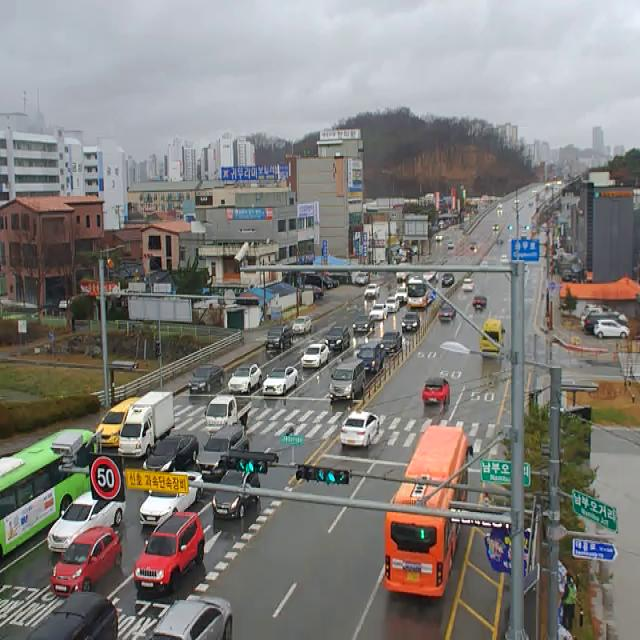Bus: (385, 427, 473, 598), (0, 429, 97, 558), (408, 271, 438, 308)
Car: (134, 512, 205, 591), (50, 526, 122, 597), (48, 492, 126, 552), (26, 593, 117, 640), (152, 594, 232, 640), (140, 472, 203, 524), (196, 422, 250, 479), (212, 470, 260, 519), (96, 398, 142, 447), (205, 394, 252, 438), (142, 435, 199, 471), (330, 359, 365, 405), (340, 412, 379, 450), (581, 305, 629, 328), (188, 364, 224, 393), (228, 363, 262, 393), (263, 367, 298, 395), (480, 318, 505, 357), (585, 310, 627, 332), (422, 378, 450, 407), (265, 325, 293, 352), (594, 319, 630, 339), (325, 325, 350, 352), (301, 344, 329, 368), (380, 331, 402, 353), (292, 316, 312, 335), (353, 316, 374, 334), (402, 315, 420, 334), (369, 304, 388, 321), (438, 307, 456, 322), (364, 283, 380, 299), (396, 264, 410, 281), (472, 295, 487, 309), (386, 298, 399, 314), (395, 288, 407, 304), (355, 272, 368, 286), (442, 274, 455, 286), (462, 279, 474, 292), (470, 241, 478, 250), (436, 234, 444, 242), (492, 224, 499, 231), (448, 242, 454, 250)
Truck: (118, 392, 175, 458), (357, 341, 385, 372)
